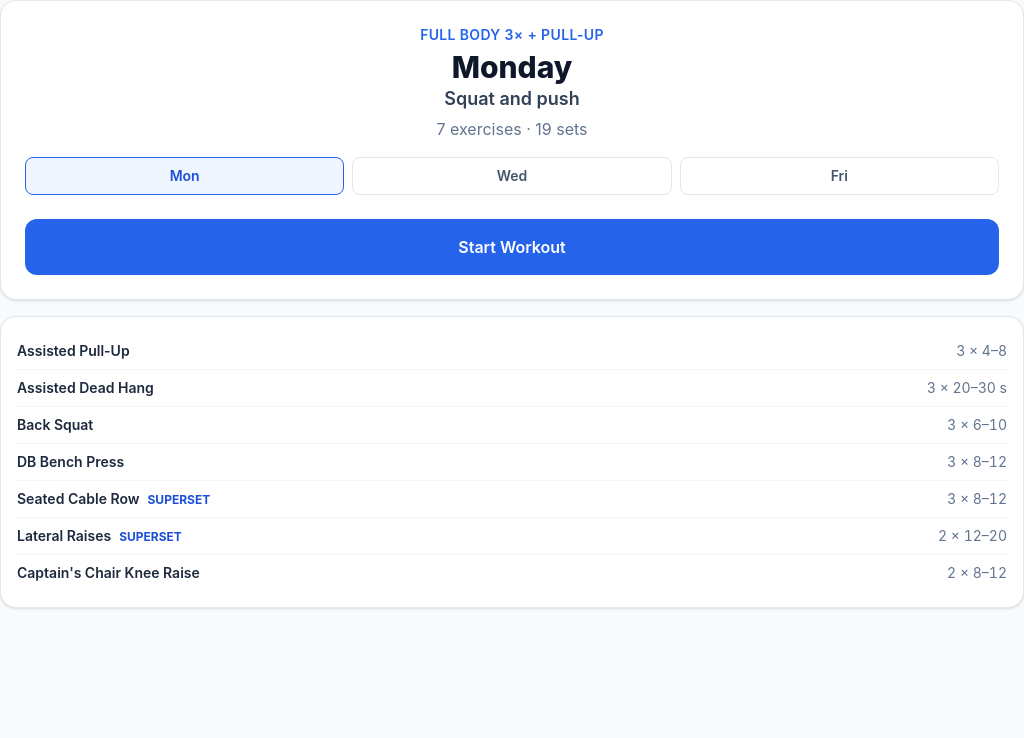
Scenario: Strength in lb (S-006) › labels assistance in lb
Click the button "Start Workout" at (512, 247), box [25,219,999,275]
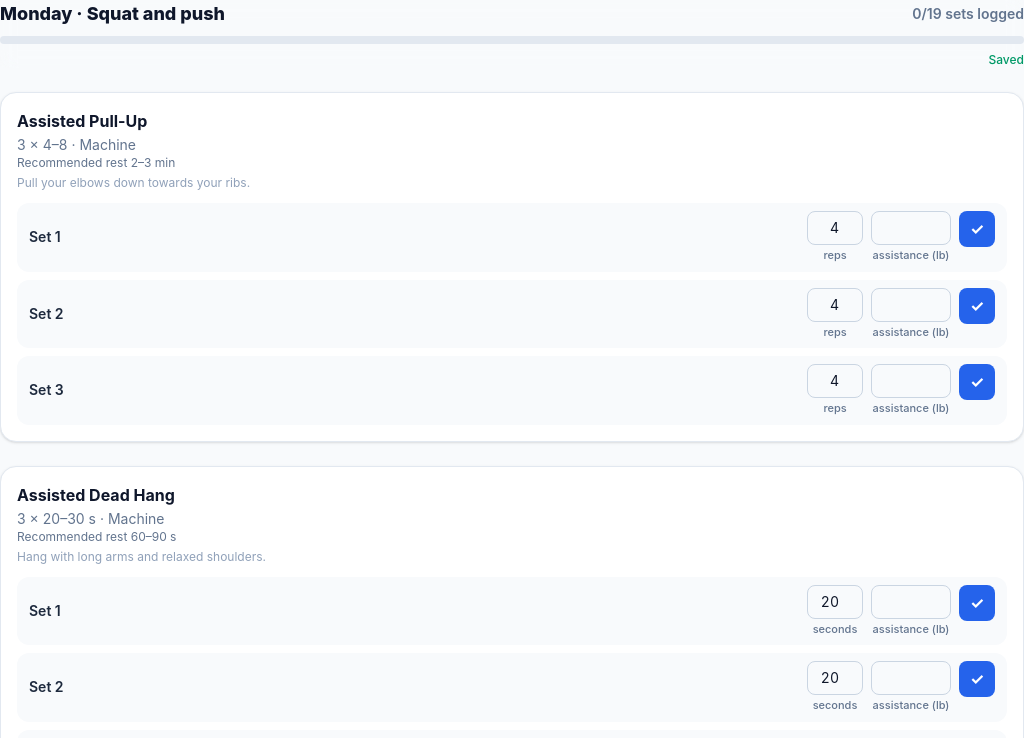
Now the text "assistance (lb)" is shown 3 times, box [873,247,949,264]; [873,324,949,340]; [873,400,949,416]
